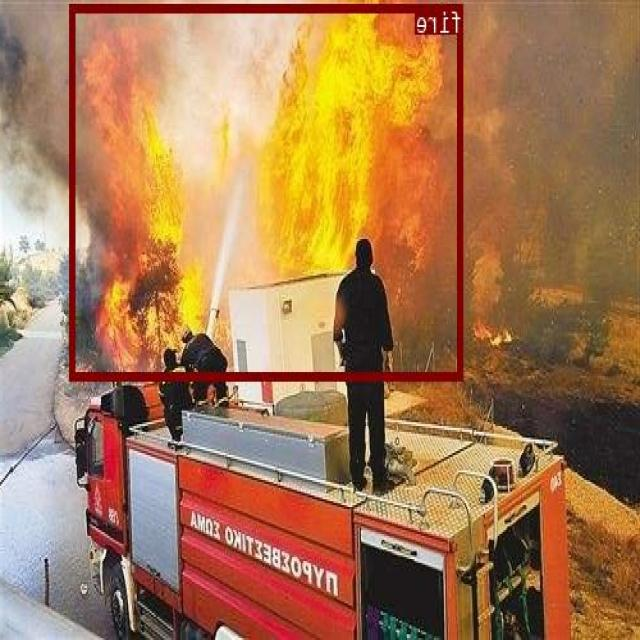fire: (71, 2, 464, 378)
